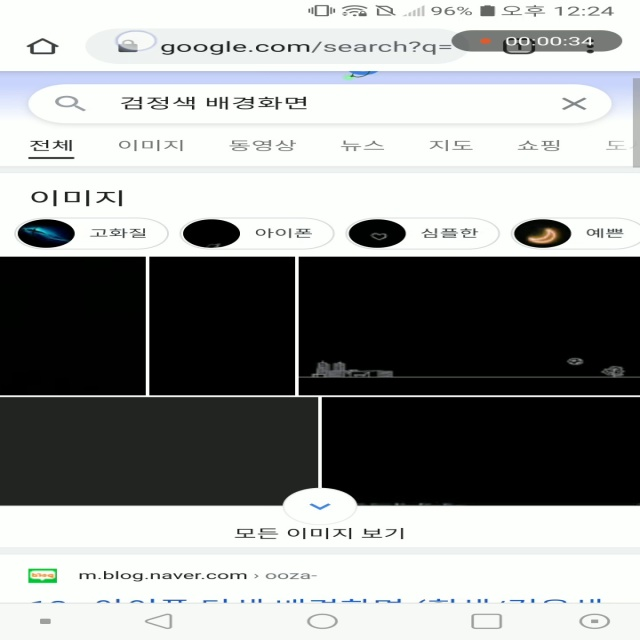Cursor: (115, 29, 160, 52)
